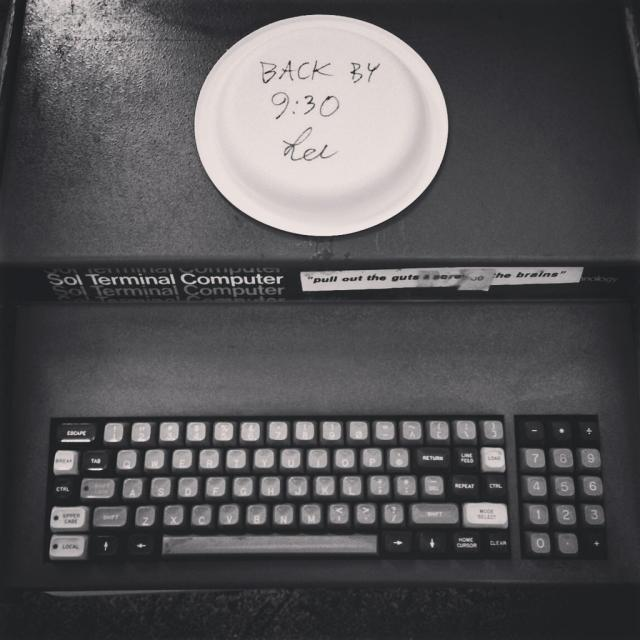non-organic waste: (191, 11, 439, 244)
